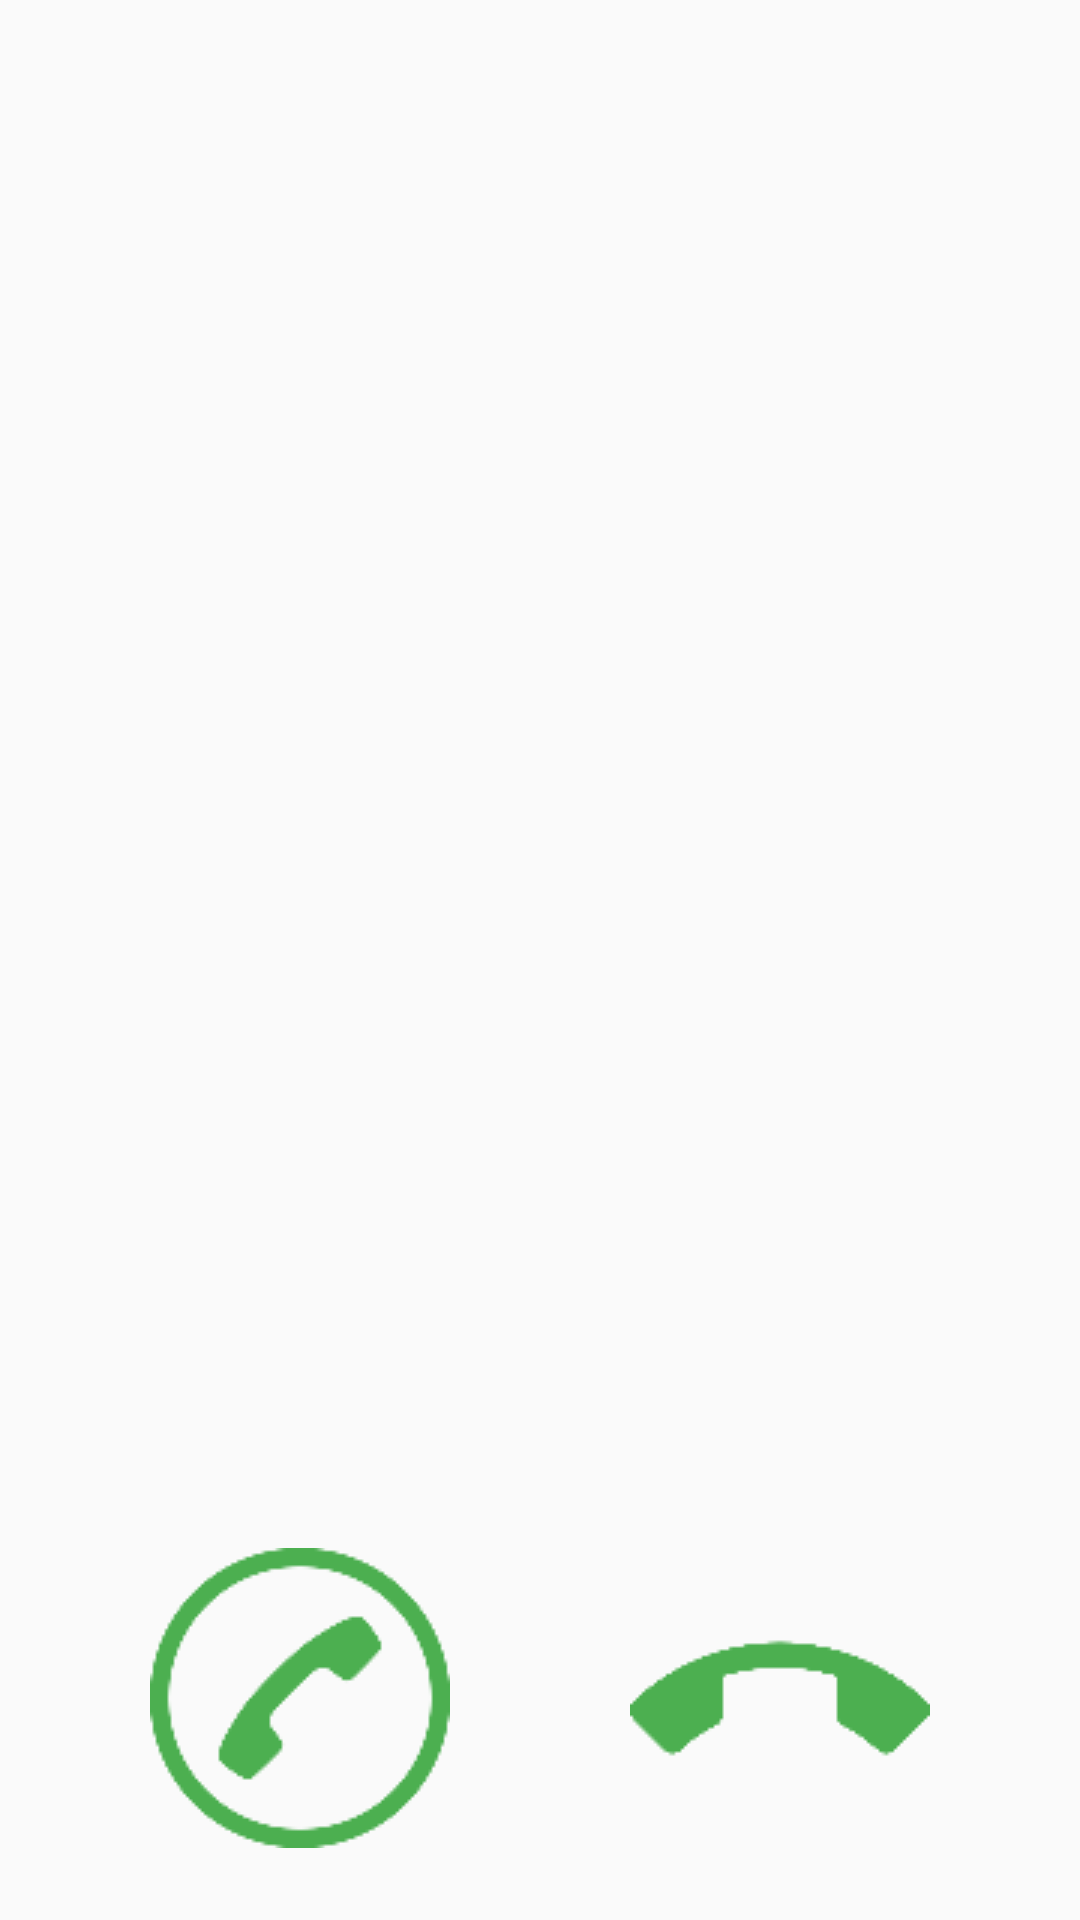

Screen size 1080*1920. Icon name, then its box in pixels as BBox(x1, y1, x2, y2):
Answer: BBox(150, 1548, 450, 1848)
Hang up: BBox(630, 1640, 930, 1756)
